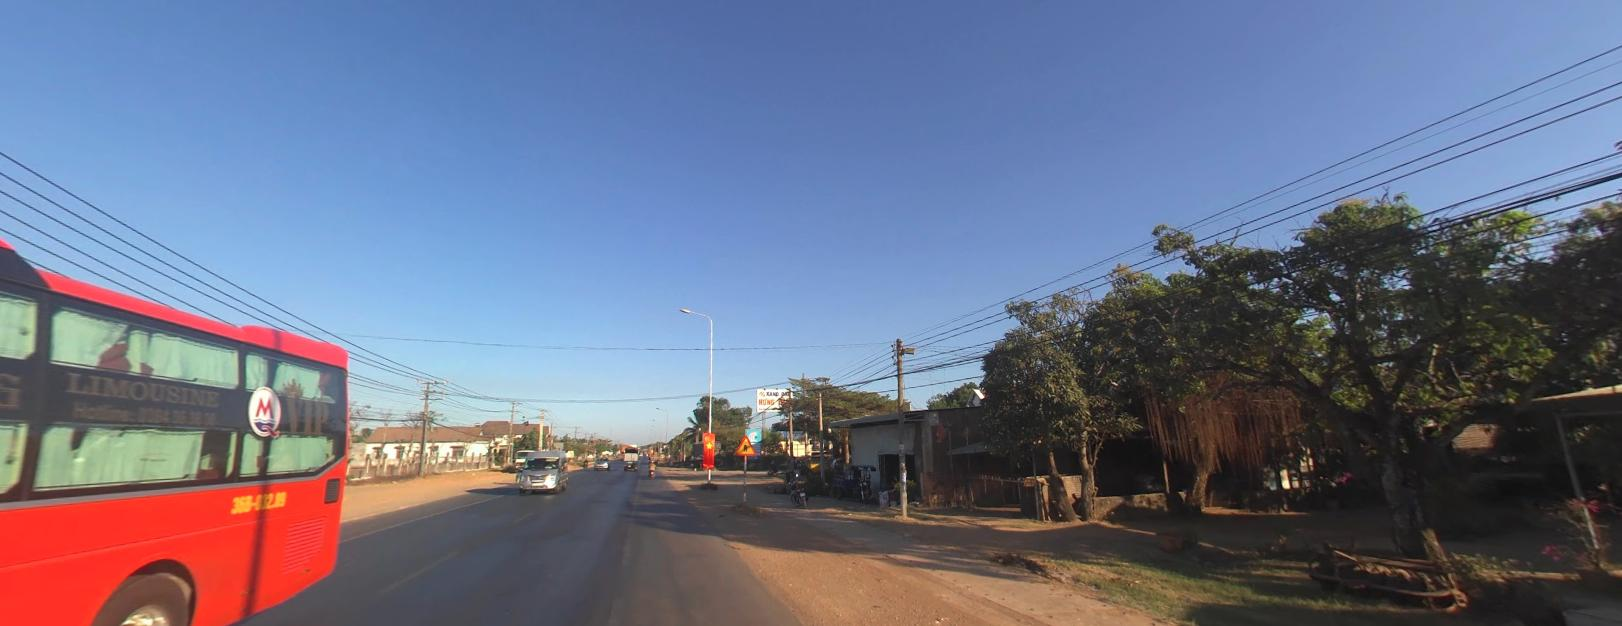Nguy hiem: (733, 434, 757, 455)
